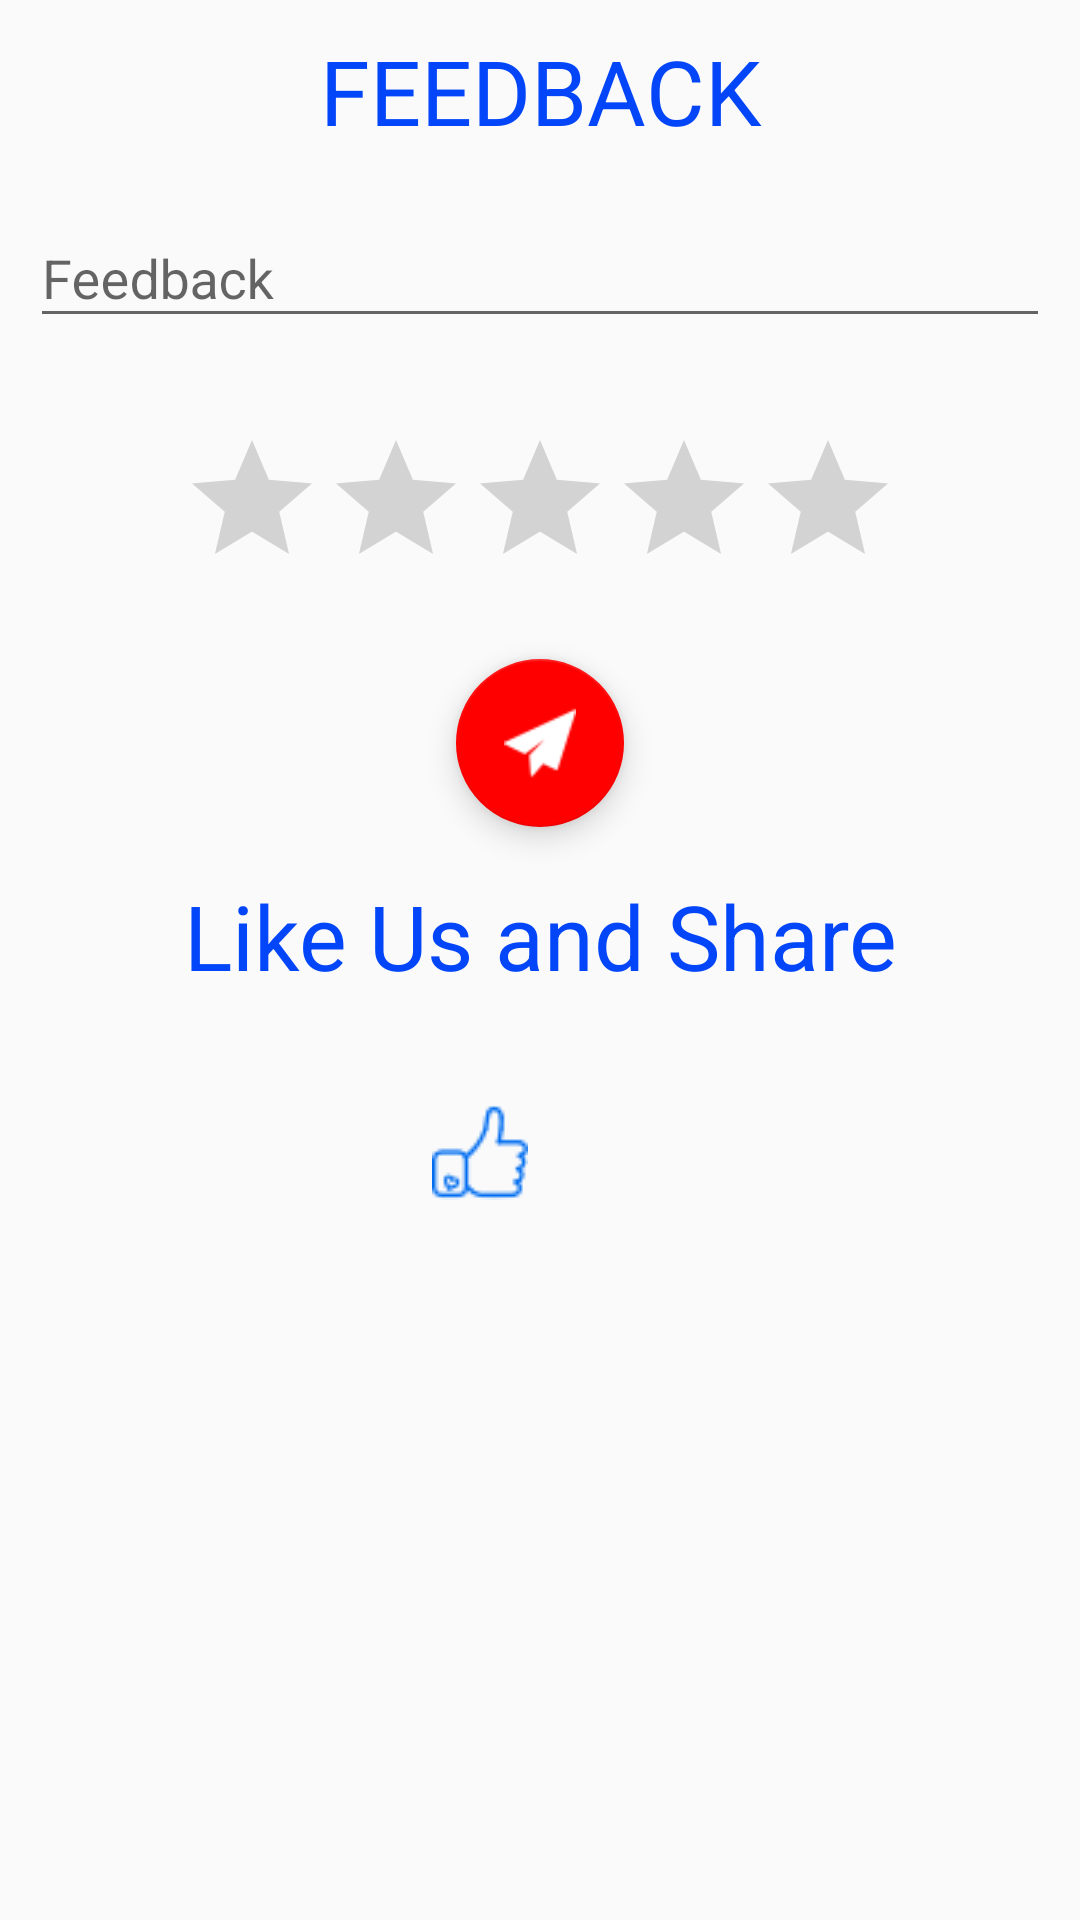

Icon click points for this 1080 x 1920 phone screenshot, format point (x, y):
sent: point (540, 743)
